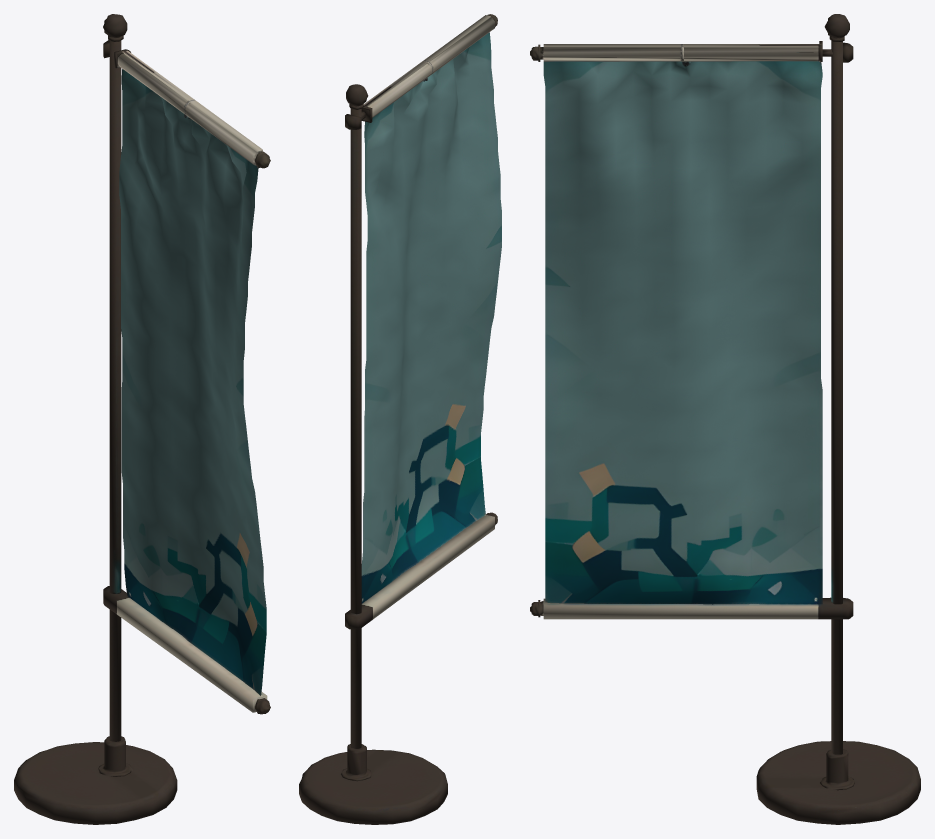
File: lesson-banner.glb
The picture shows the model from 3 angles, left to right: view 1: azimuth 30°, elevation 25°; view 2: azimuth 150°, elevation 25°; view 3: azimuth 270°, elevation 25°; orthographic projection. The views are drawn at different scales.
Parts seen in each view (by area): view 1: tripo_node_kodyurd-model-86____________________; view 2: tripo_node_kodyurd-model-86____________________; view 3: tripo_node_kodyurd-model-86____________________.
Boxes of the visible parts, x1,y1,x2,y2 form: tripo_node_kodyurd-model-86____________________: (14, 14, 270, 824); tripo_node_kodyurd-model-86____________________: (299, 14, 501, 824); tripo_node_kodyurd-model-86____________________: (530, 14, 920, 824).
Bounding box in the file's own units: 0.1895 × 0.998 × 0.4512.
Materials: 1 (1 with a texture image).
